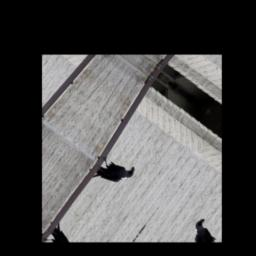Crow: (86, 146, 138, 198)
